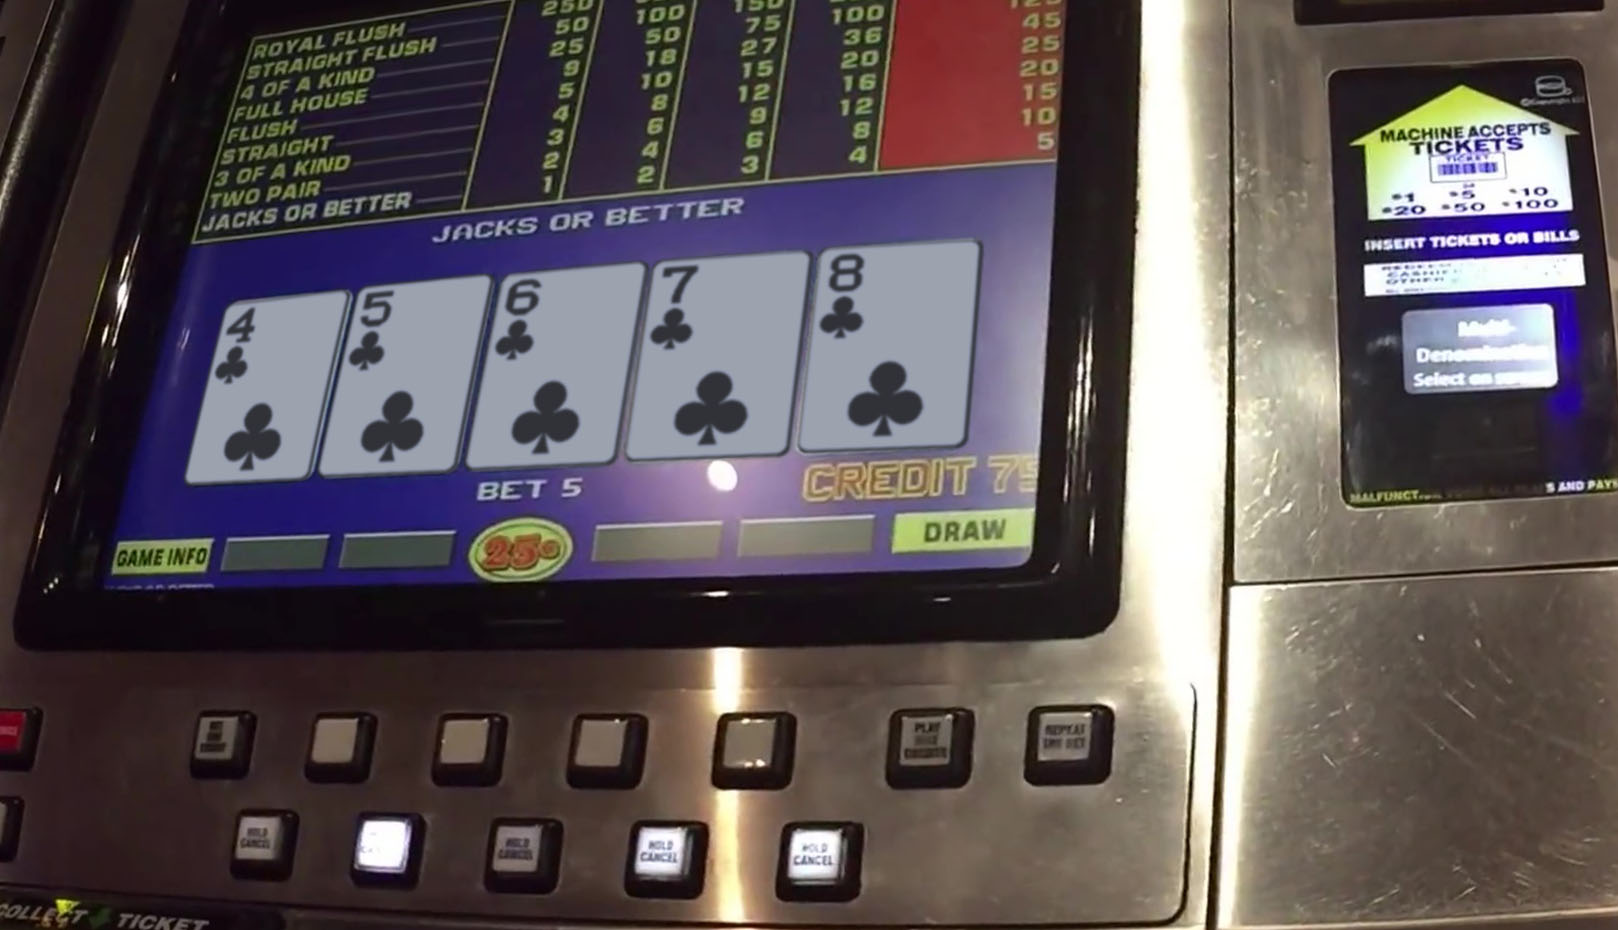C4: (217, 299, 340, 394)
C5: (352, 284, 471, 382)
C6: (495, 268, 637, 376)
C7: (653, 258, 795, 371)
C8: (816, 248, 973, 357)
